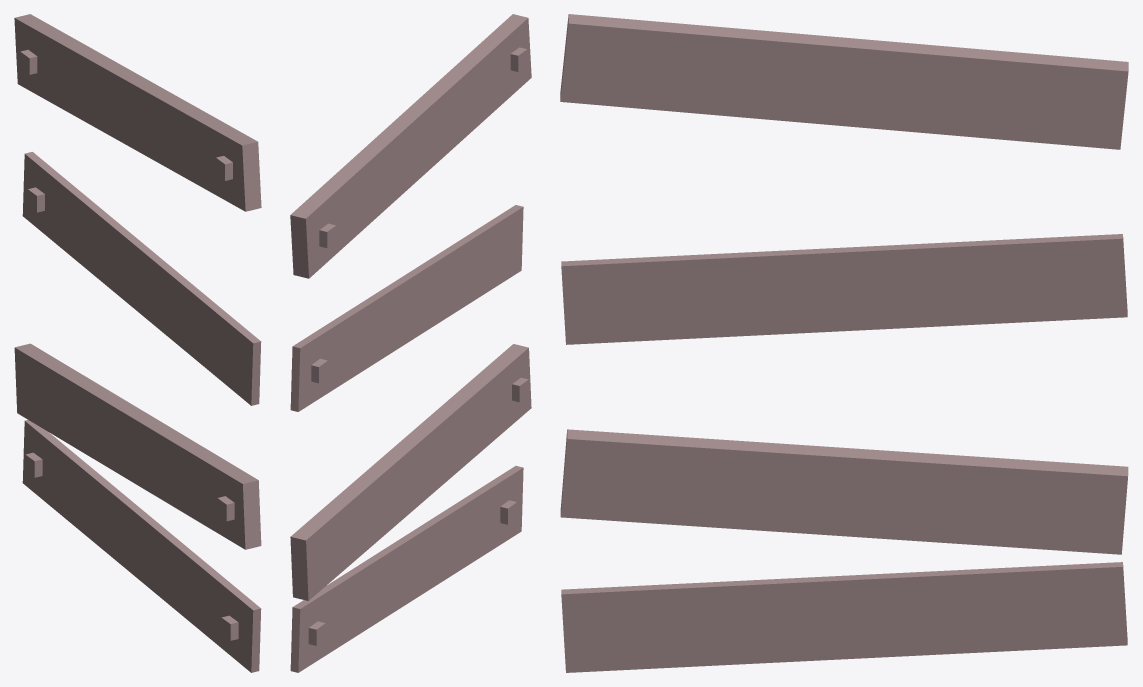
File: barricade-doorway-b.obj
3 renders of one model, left to right at view 1: azimuth 30°, elevation 25°; view 2: azimuth 150°, elevation 25°; view 3: azimuth 270°, elevation 25°, orthographic. The views are drawn at different scales.
Bounding box in the file's own units: 0.075 × 1.58 × 1.26.
